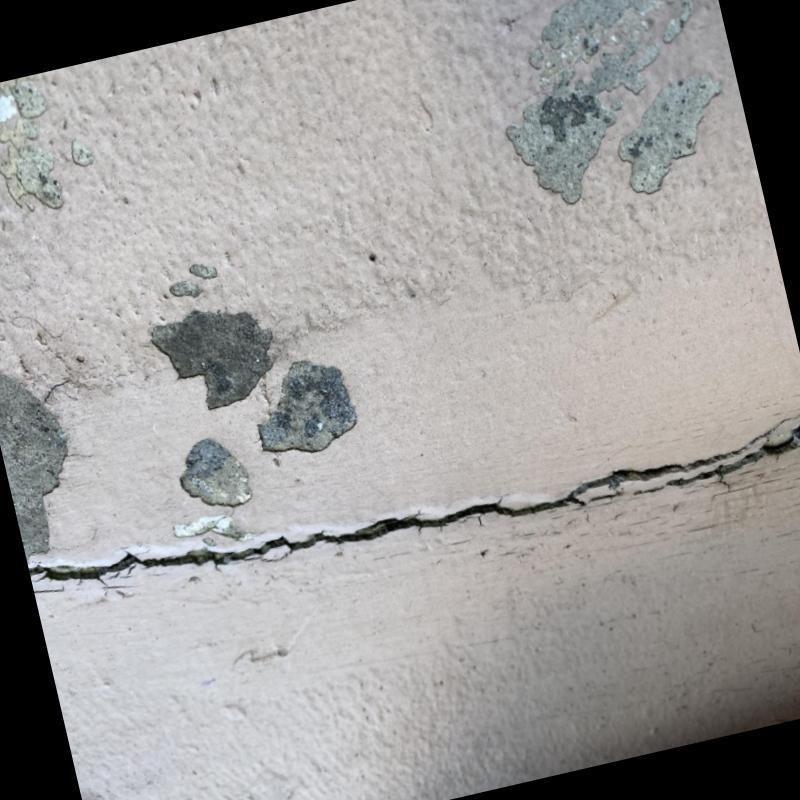pothole: (26, 423, 800, 584)
